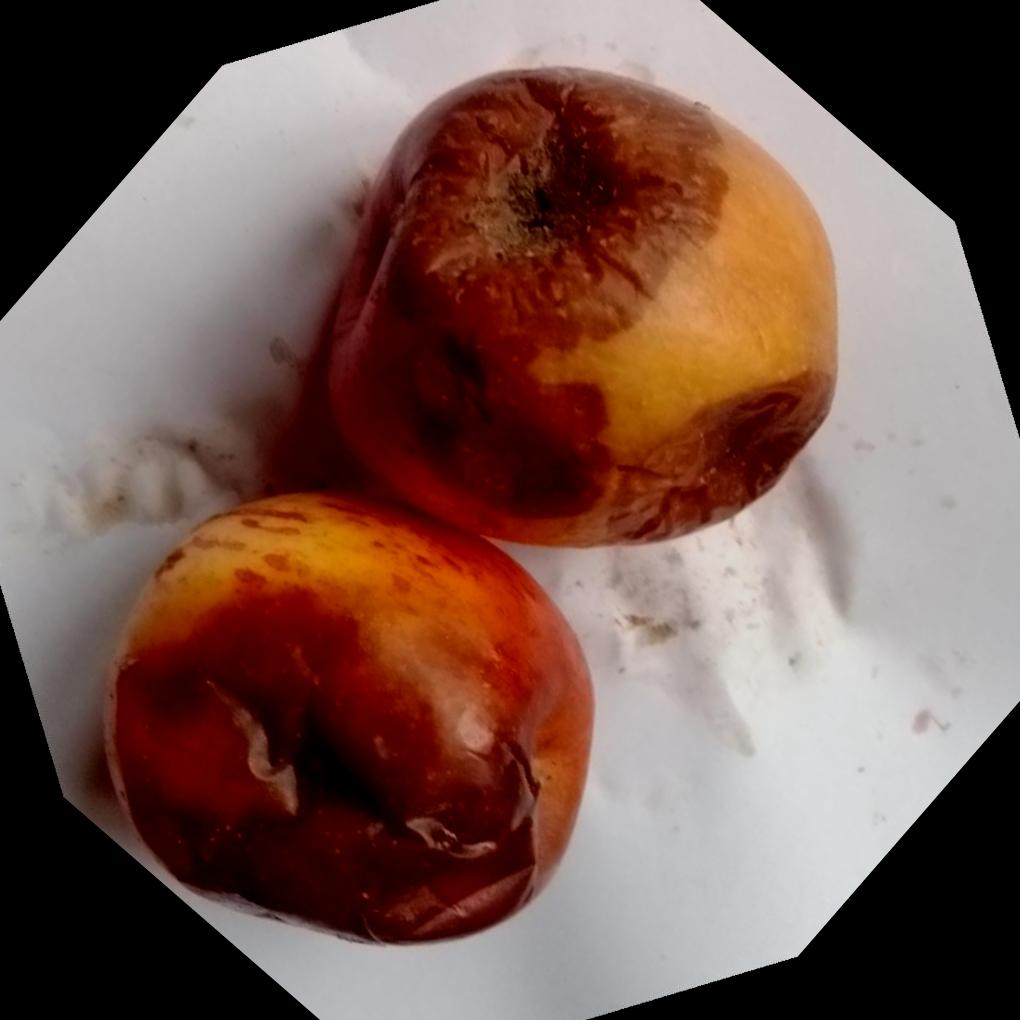FreshOrange: (102, 61, 842, 946)
